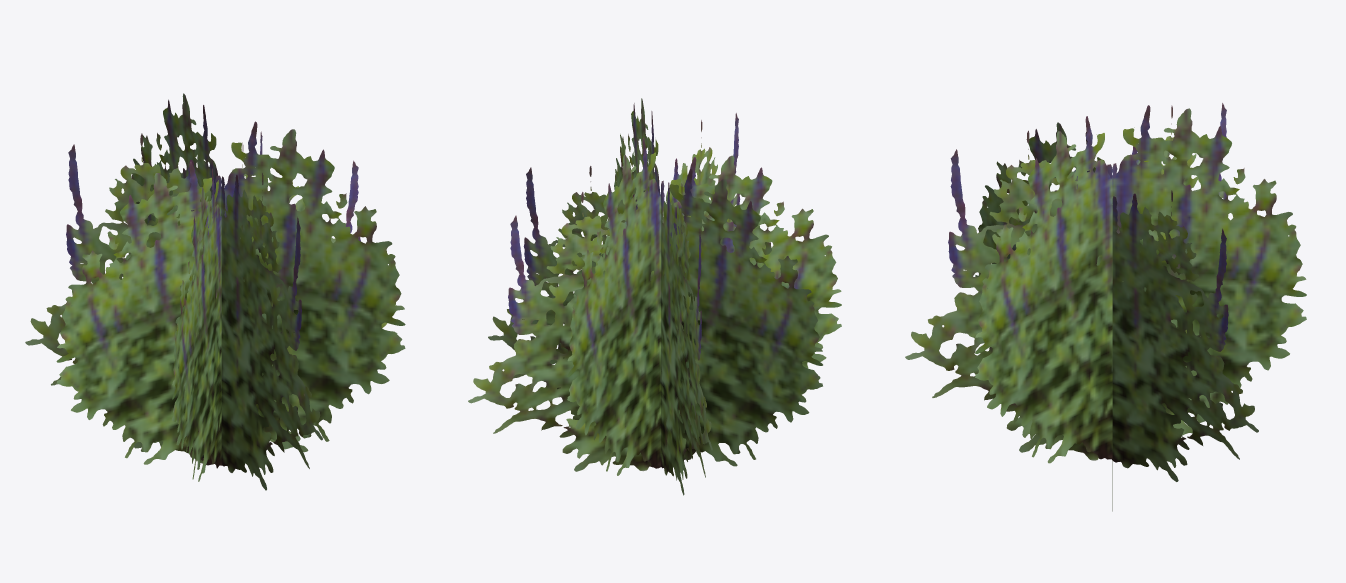
File: Shrub_B1.fbx
3 renders of one model, left to right at view 1: azimuth 30°, elevation 25°; view 2: azimuth 150°, elevation 25°; view 3: azimuth 270°, elevation 25°, orthographic. The views are drawn at different scales.
Parts seen in each view (by area): view 1: Shrub_B1; view 2: Shrub_B1; view 3: Shrub_B1.
Part boxes in pixels (x1,y1,x2,y2): Shrub_B1: (25, 93, 405, 490); Shrub_B1: (468, 98, 841, 495); Shrub_B1: (905, 103, 1306, 511).
Size of the model in its own units: 1 by 1 by 1.
